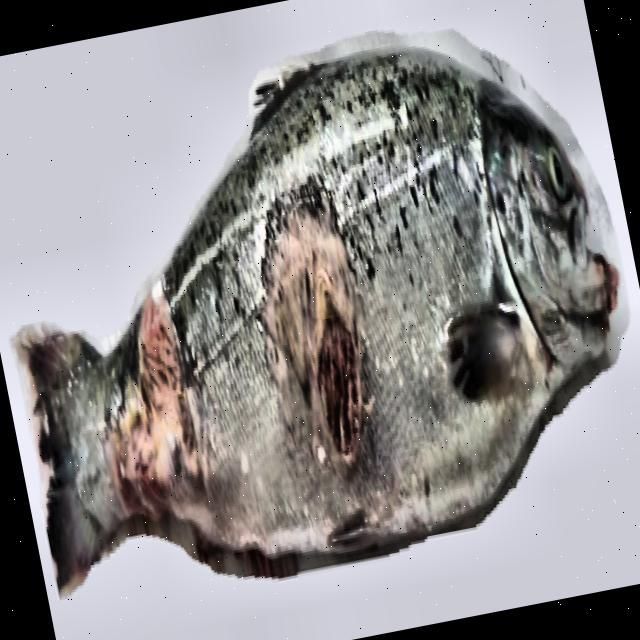wound: (265, 202, 373, 487), (112, 278, 205, 530)
